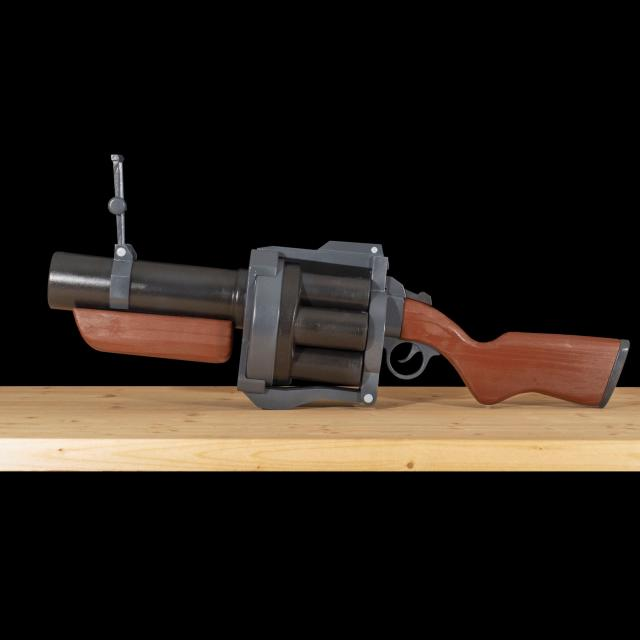Weapon: (42, 138, 636, 416)
